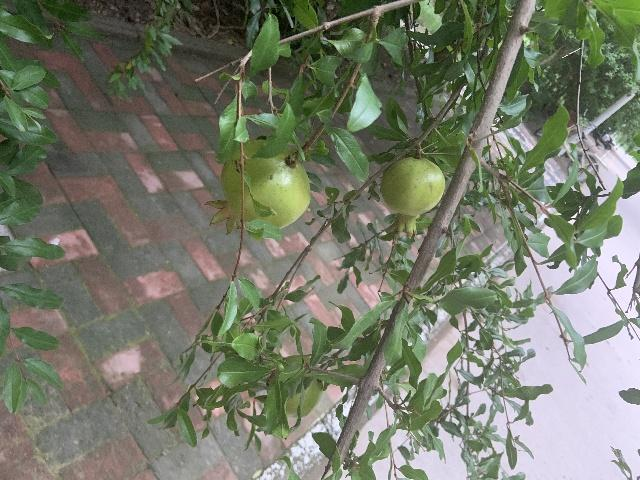mid-growth: (204, 139, 311, 235), (381, 156, 445, 239), (254, 355, 323, 418)
